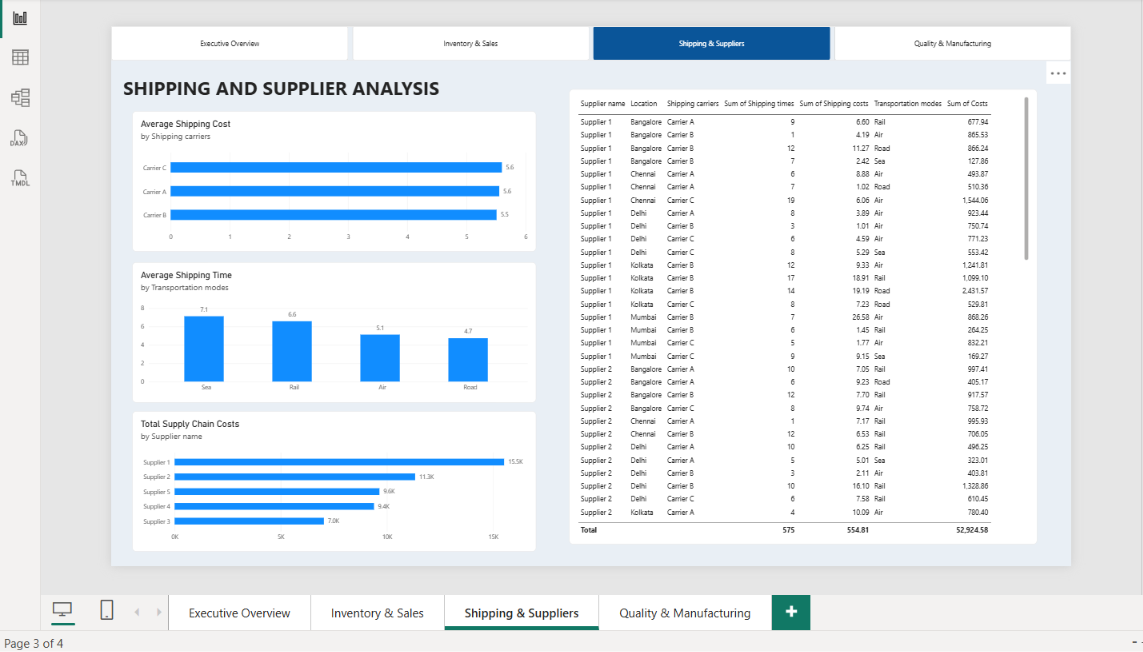

This screenshot's page, from the dashboard's own definition file:
{"tool":"powerbi","page":{"name":"Shipping & Suppliers","canvas":[1920,1080],"ordinal":2},"visuals":[{"type":"textbox","box":[24,98,842,184],"z":0},{"type":"clusteredBarChart","fields":{"Category":["SupplyChainData.Shipping carriers"],"Y":["SupplyChainData.Average Shipping Cost"]},"box":[42,170,808,281],"z":1000},{"type":"clusteredColumnChart","fields":{"Category":["SupplyChainData.Transportation modes"],"Y":["SupplyChainData.Average Shipping Time"]},"box":[42,472,808,281],"z":2000},{"type":"tableEx","fields":{"Values":["SupplyChainData.Supplier name","SupplyChainData.Location","SupplyChainData.Shipping carriers","Sum(SupplyChainData.Shipping times)","Sum(SupplyChainData.Shipping costs)","SupplyChainData.Transportation modes","Sum(SupplyChainData.Costs)"]},"box":[916,126,936,910],"z":3000},{"type":"clusteredBarChart","fields":{"Category":["SupplyChainData.Supplier name"],"Y":["SupplyChainData.Total Supply Chain Costs"]},"box":[42,770,808,281],"z":4000},{"type":"pageNavigator","box":[0,0,1920,68],"z":5000}]}

Visuals, with their boxes on the page's 1920x1080 design canvas (x1, y1, x2, y2). These are canvas units, not pixel positions in the 1143x652 screenshot, which may show the page scaled, cropped or inside an application window:
textbox: bbox=[24, 98, 866, 282]
clusteredBarChart - SupplyChainData.Shipping carriers x SupplyChainData.Average Shipping Cost: bbox=[42, 170, 850, 451]
clusteredColumnChart - SupplyChainData.Transportation modes x SupplyChainData.Average Shipping Time: bbox=[42, 472, 850, 753]
tableEx - SupplyChainData.Supplier name x SupplyChainData.Location: bbox=[916, 126, 1852, 1036]
clusteredBarChart - SupplyChainData.Supplier name x SupplyChainData.Total Supply Chain Costs: bbox=[42, 770, 850, 1051]
pageNavigator: bbox=[0, 0, 1920, 68]
